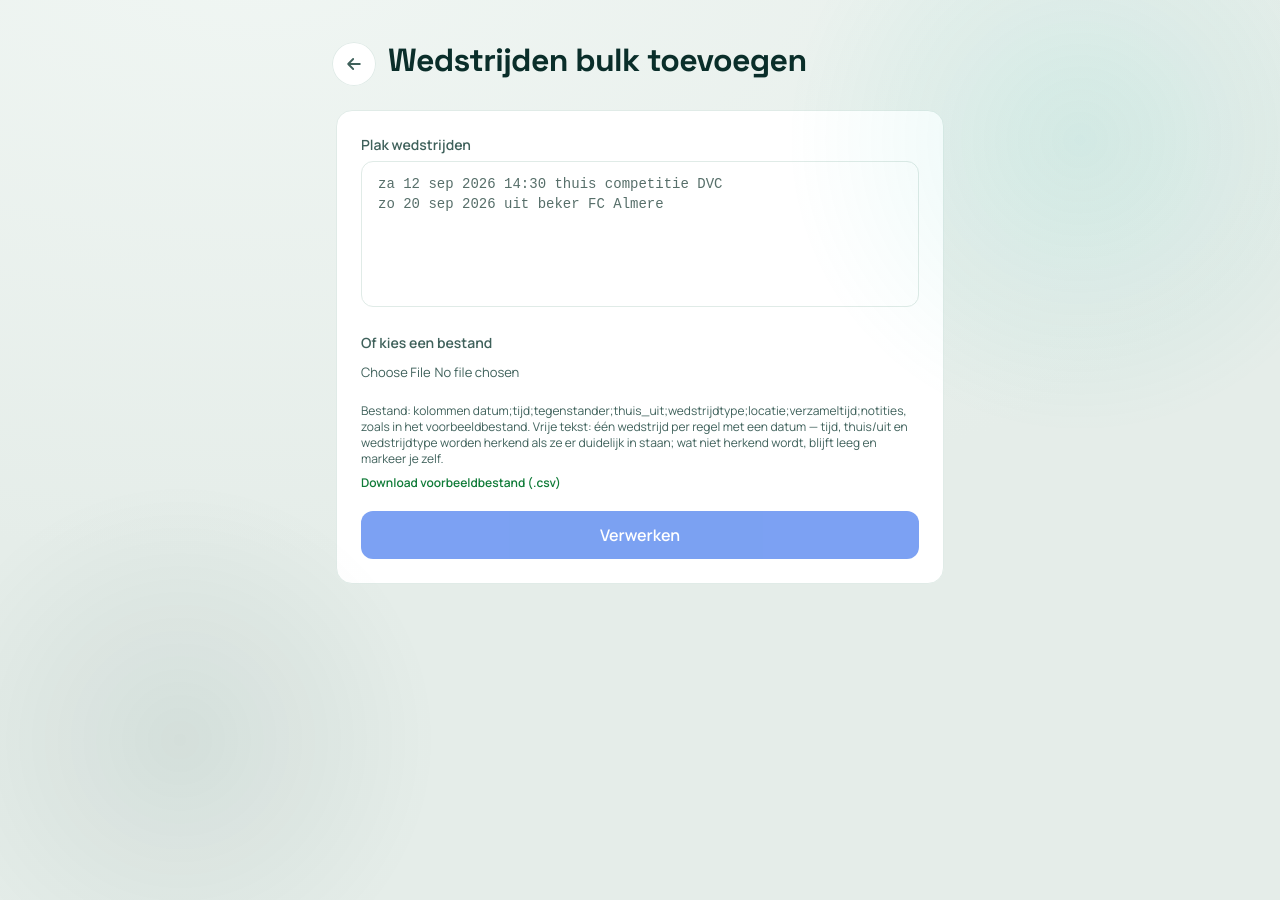
Test: Story-F1 — Niet ingelogd bij bevestigen › sessie verlopen vóór opslaan → niets opgeslagen, melding "Niet ingelogd"
This screenshot has width=1280, height=900.
Replace the text in the text box labelled "Plak wedstrijden" with "2026-09-12 14:30 thuis competitie DVC" at [640, 234], box 361,161 -> 919,307
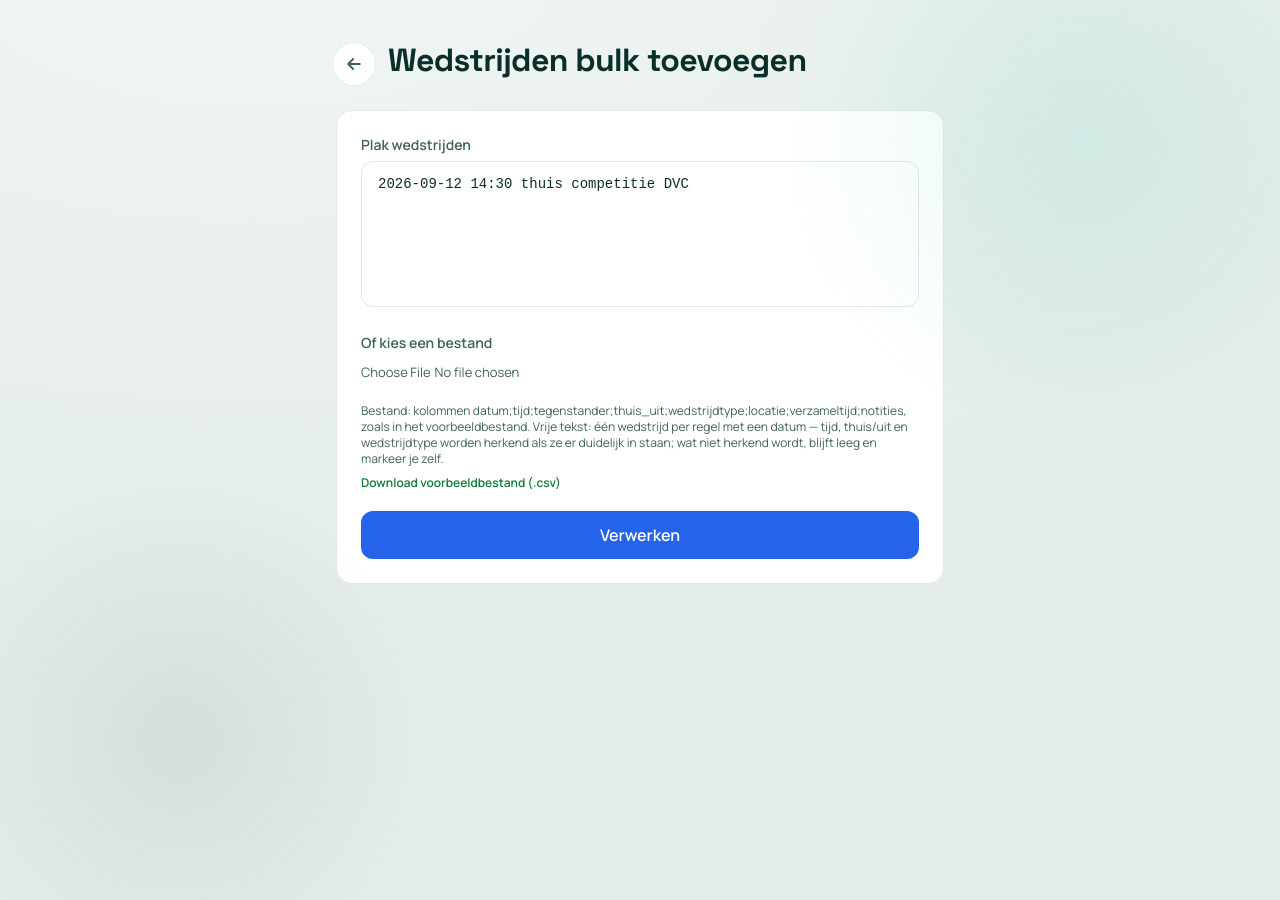
Click the button "Verwerken" at [640, 535], box 361,511 -> 919,559
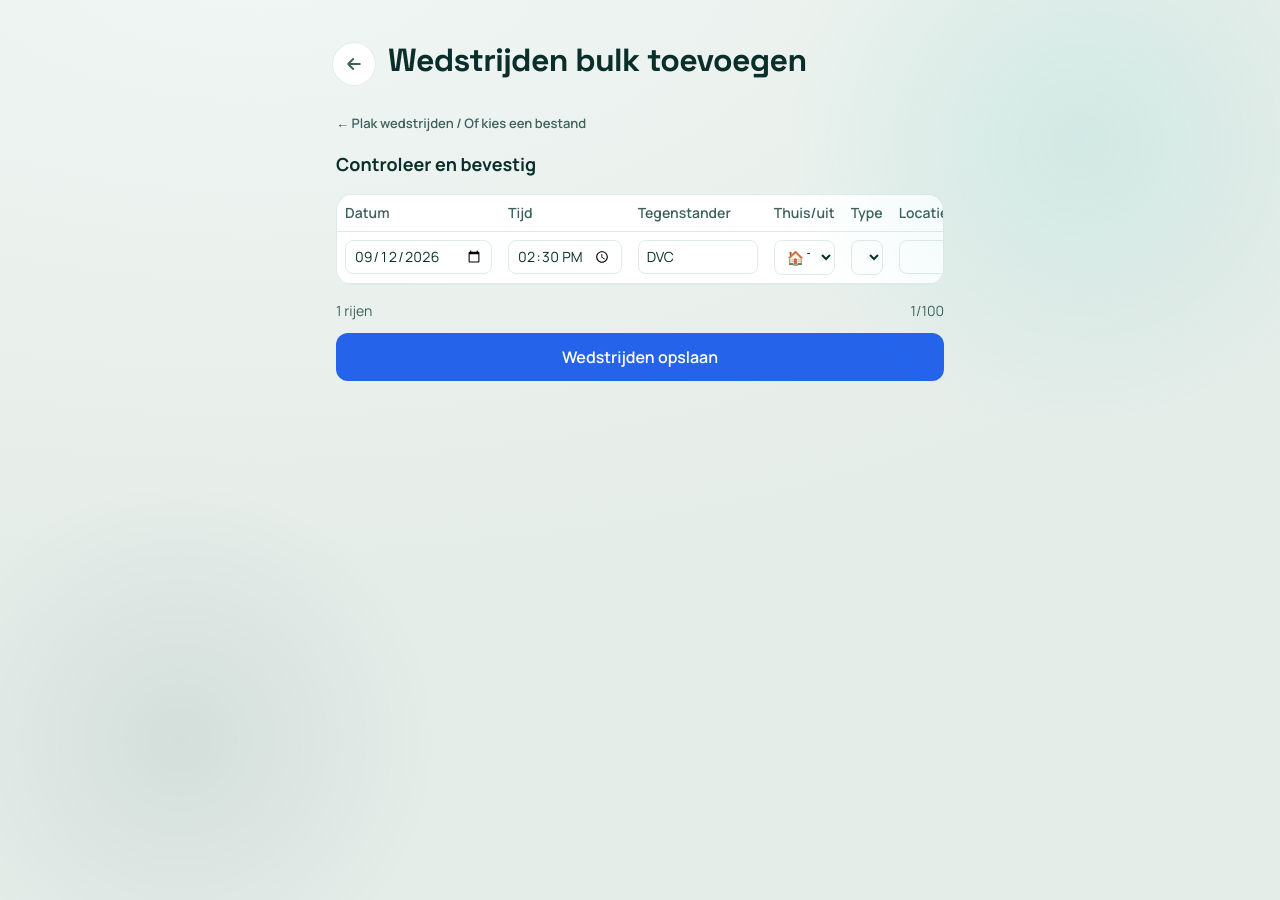
Click the button "Wedstrijden opslaan" at [640, 356], box 336,332 -> 944,380
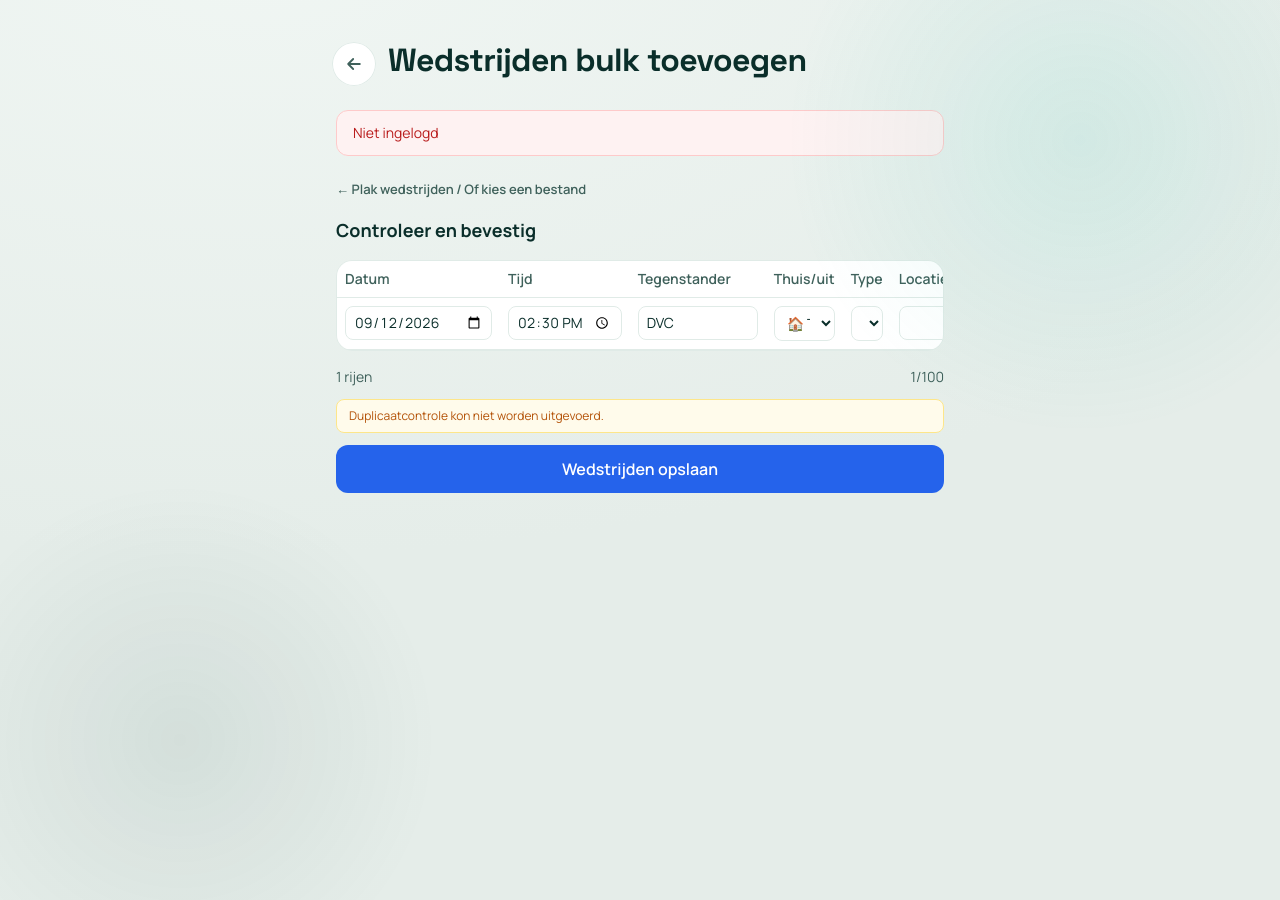
Expected: the text "Niet ingelogd" is shown, 336,110 -> 944,156
